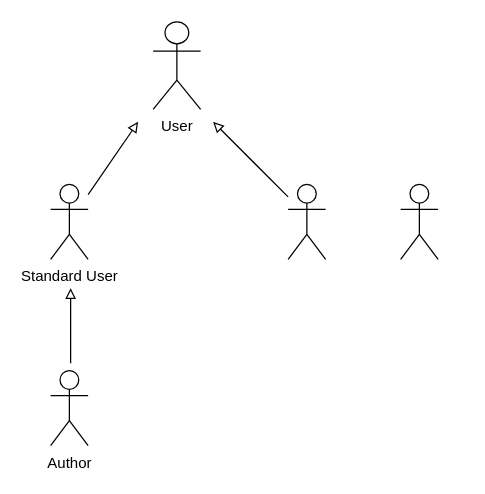
Image size: 485x494. Some labels were removed from this diagram. The shapes that lost their labels are listed below. From the top down, each one's centre as x and y in pixels, then its label:
At (x=306, y=221): "Guest".
At (x=418, y=221): "Administrator".
